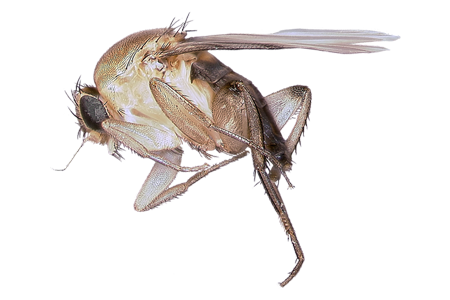phorid fly: (22, 8, 414, 288)
